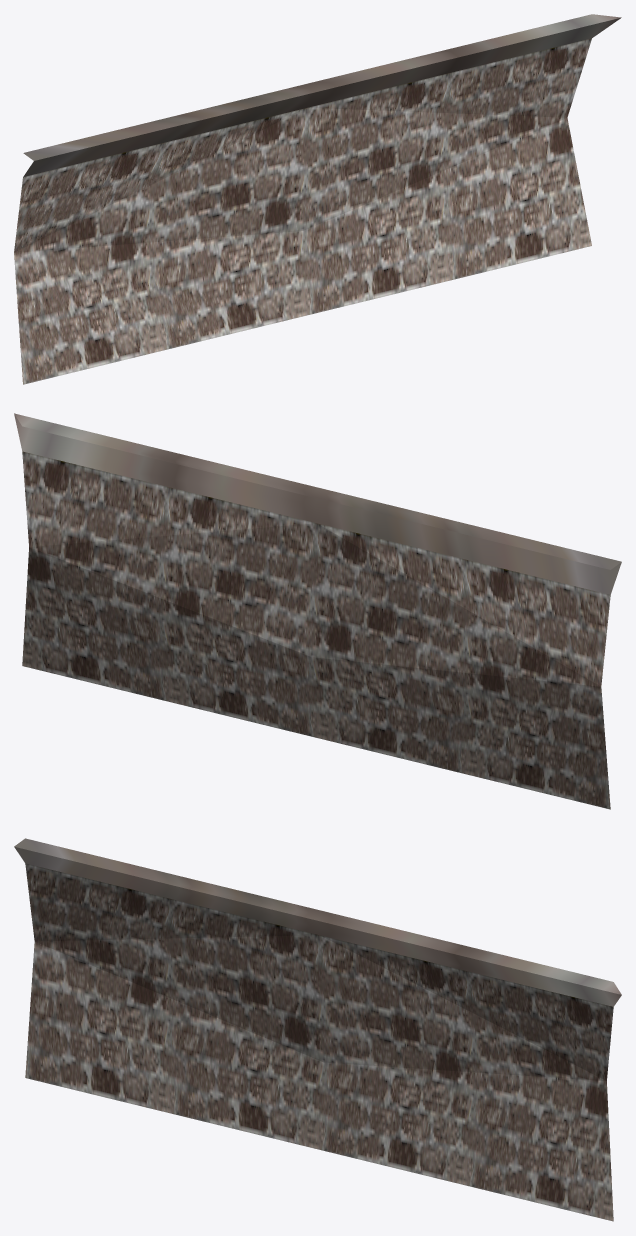
Rendered from W_A2r_xxxx [Steine]_966.glb.
3 views of the same model, one above another, from view 1: azimuth 30°, elevation 25°; view 2: azimuth 150°, elevation 25°; view 3: azimuth 330°, elevation 25° (orthographic). The views are drawn at different scales.
Parts seen in each view (by area): view 1: polySurfaceShape787, polySurfaceShape1065; view 2: polySurfaceShape787, polySurfaceShape1065; view 3: polySurfaceShape787, polySurfaceShape1065.
Part boxes in pixels (left/top/right/bottom): polySurfaceShape787: left=14, top=38, right=591, bottom=384; polySurfaceShape1065: left=23, top=14, right=621, bottom=176; polySurfaceShape787: left=22, top=451, right=610, bottom=809; polySurfaceShape1065: left=14, top=413, right=621, bottom=594; polySurfaceShape787: left=25, top=863, right=613, bottom=1221; polySurfaceShape1065: left=14, top=838, right=621, bottom=1006.
Size of the model in its own units: 1.03 by 0.3891 by 0.0607.
2 materials, 2 textured.
